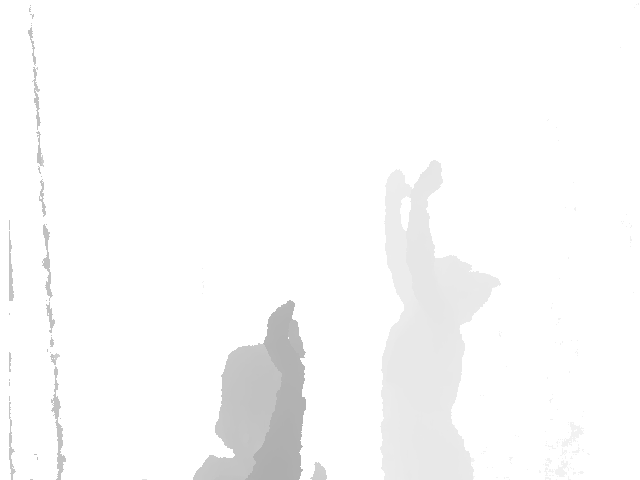hand: (264, 300, 305, 376), (411, 161, 443, 198), (385, 169, 408, 205)
head: (214, 344, 306, 457), (413, 255, 500, 325)
person: (377, 161, 500, 480), (189, 300, 328, 480)
